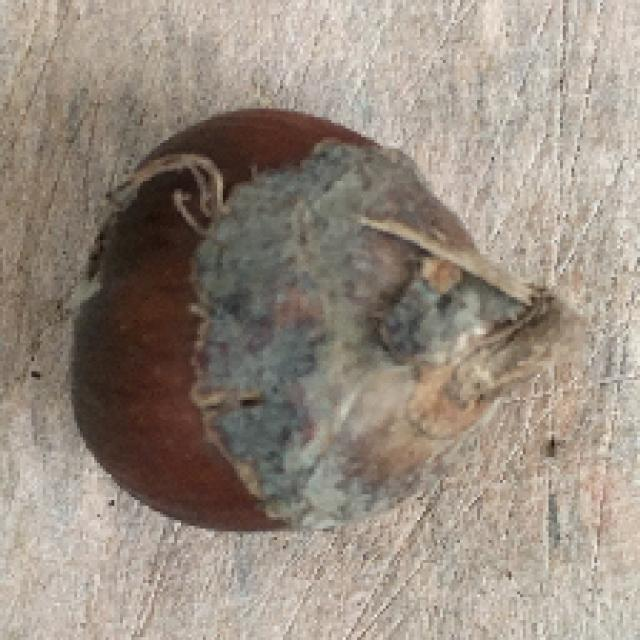damagedHazelnut: (70, 108, 562, 540)
